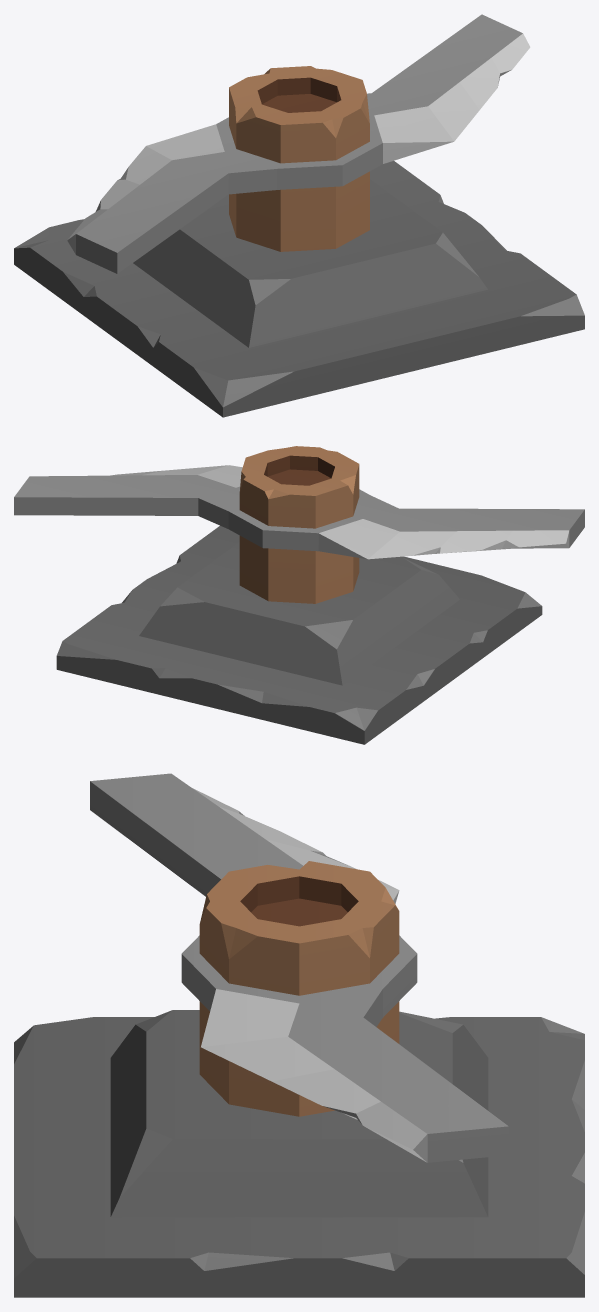
File: Turning_Knifes_2_Stand.fbx
3 views of the same model, one above another, from view 1: azimuth 30°, elevation 25°; view 2: azimuth 150°, elevation 25°; view 3: azimuth 270°, elevation 25° (orthographic). The views are drawn at different scales.
Parts seen in each view (by area): view 1: Turning_Knifes_2_Stand, Turning_Knifes_2; view 2: Turning_Knifes_2_Stand, Turning_Knifes_2; view 3: Turning_Knifes_2_Stand, Turning_Knifes_2.
Boxes of the visible parts, left/top/right/bottom form: Turning_Knifes_2_Stand: left=14, top=161, right=584, bottom=417; Turning_Knifes_2: left=67, top=14, right=530, bottom=273; Turning_Knifes_2_Stand: left=56, top=525, right=542, bottom=744; Turning_Knifes_2: left=14, top=446, right=584, bottom=603; Turning_Knifes_2_Stand: left=14, top=1010, right=584, bottom=1297; Turning_Knifes_2: left=90, top=773, right=508, bottom=1162.
Bounding box in the file's own units: 119 × 42.12 × 79.12.
Materials: 1 (1 with a texture image).
